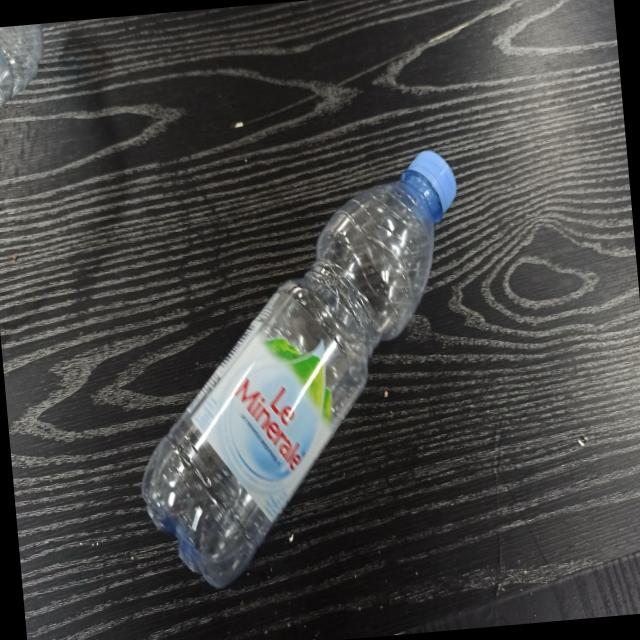BotolPlastik: (112, 144, 490, 596)
